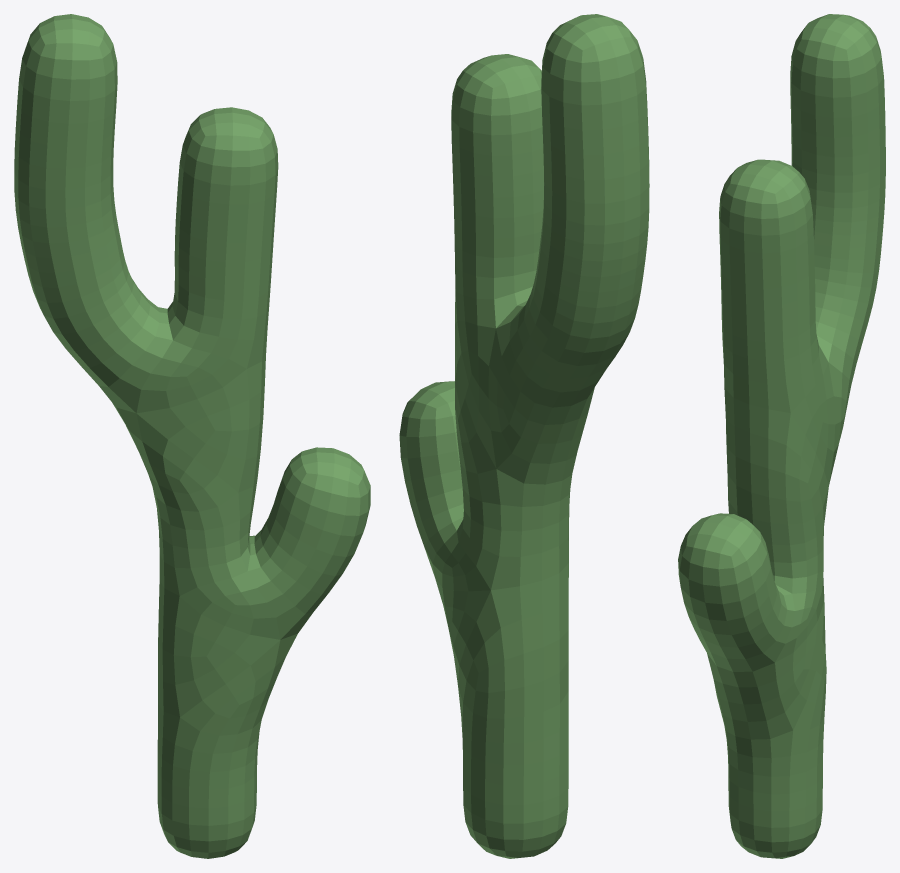
Rendered from bigcactus.fbx.
3 renders of one model, left to right at view 1: azimuth 30°, elevation 25°; view 2: azimuth 150°, elevation 25°; view 3: azimuth 270°, elevation 25°, orthographic. The views are drawn at different scales.
Visible parts, largest first — view 1: Plane.001; view 2: Plane.001; view 3: Plane.001.
Part boxes in pixels (box(x1,y1,x2,y2)): Plane.001: box(14, 14, 370, 858); Plane.001: box(399, 14, 649, 858); Plane.001: box(678, 14, 885, 858).
Size of the model in its own units: 272 by 766 by 184.
